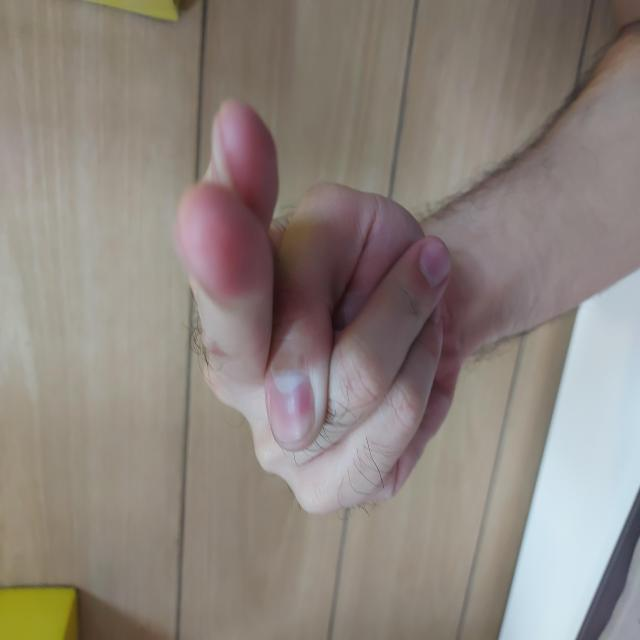N: (126, 170, 544, 462)
